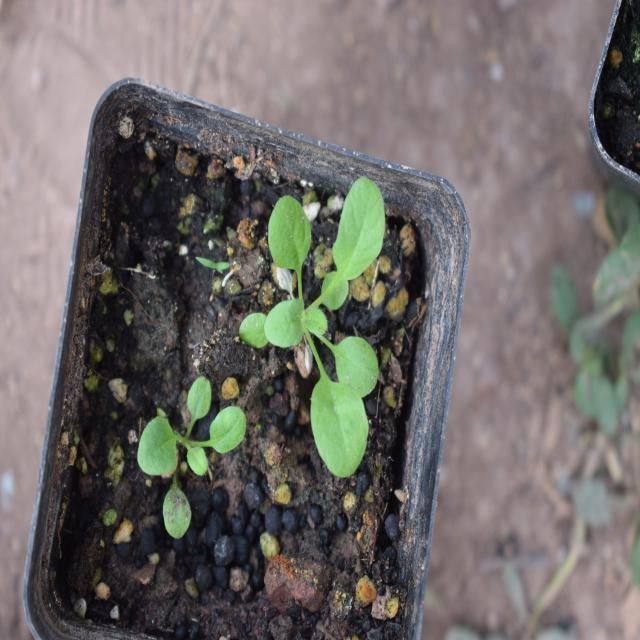Shepherd_Purse: (245, 160, 386, 467), (144, 385, 241, 524)
